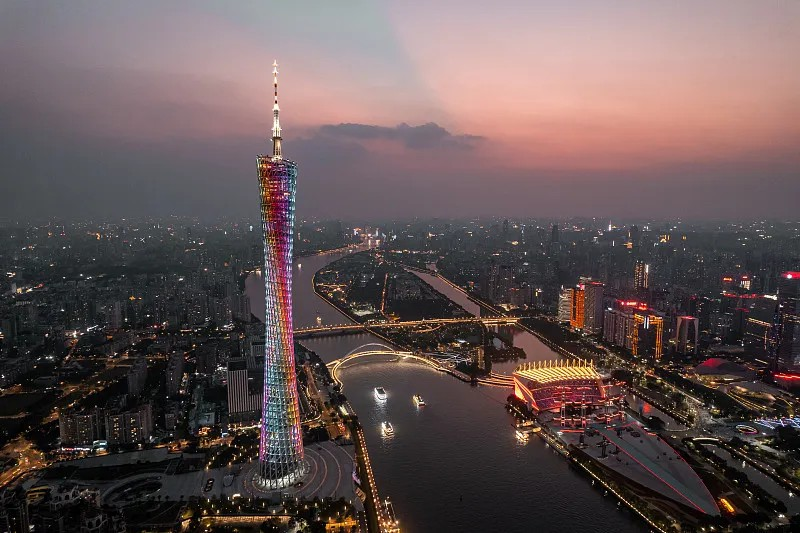Canton: (252, 59, 310, 486)
